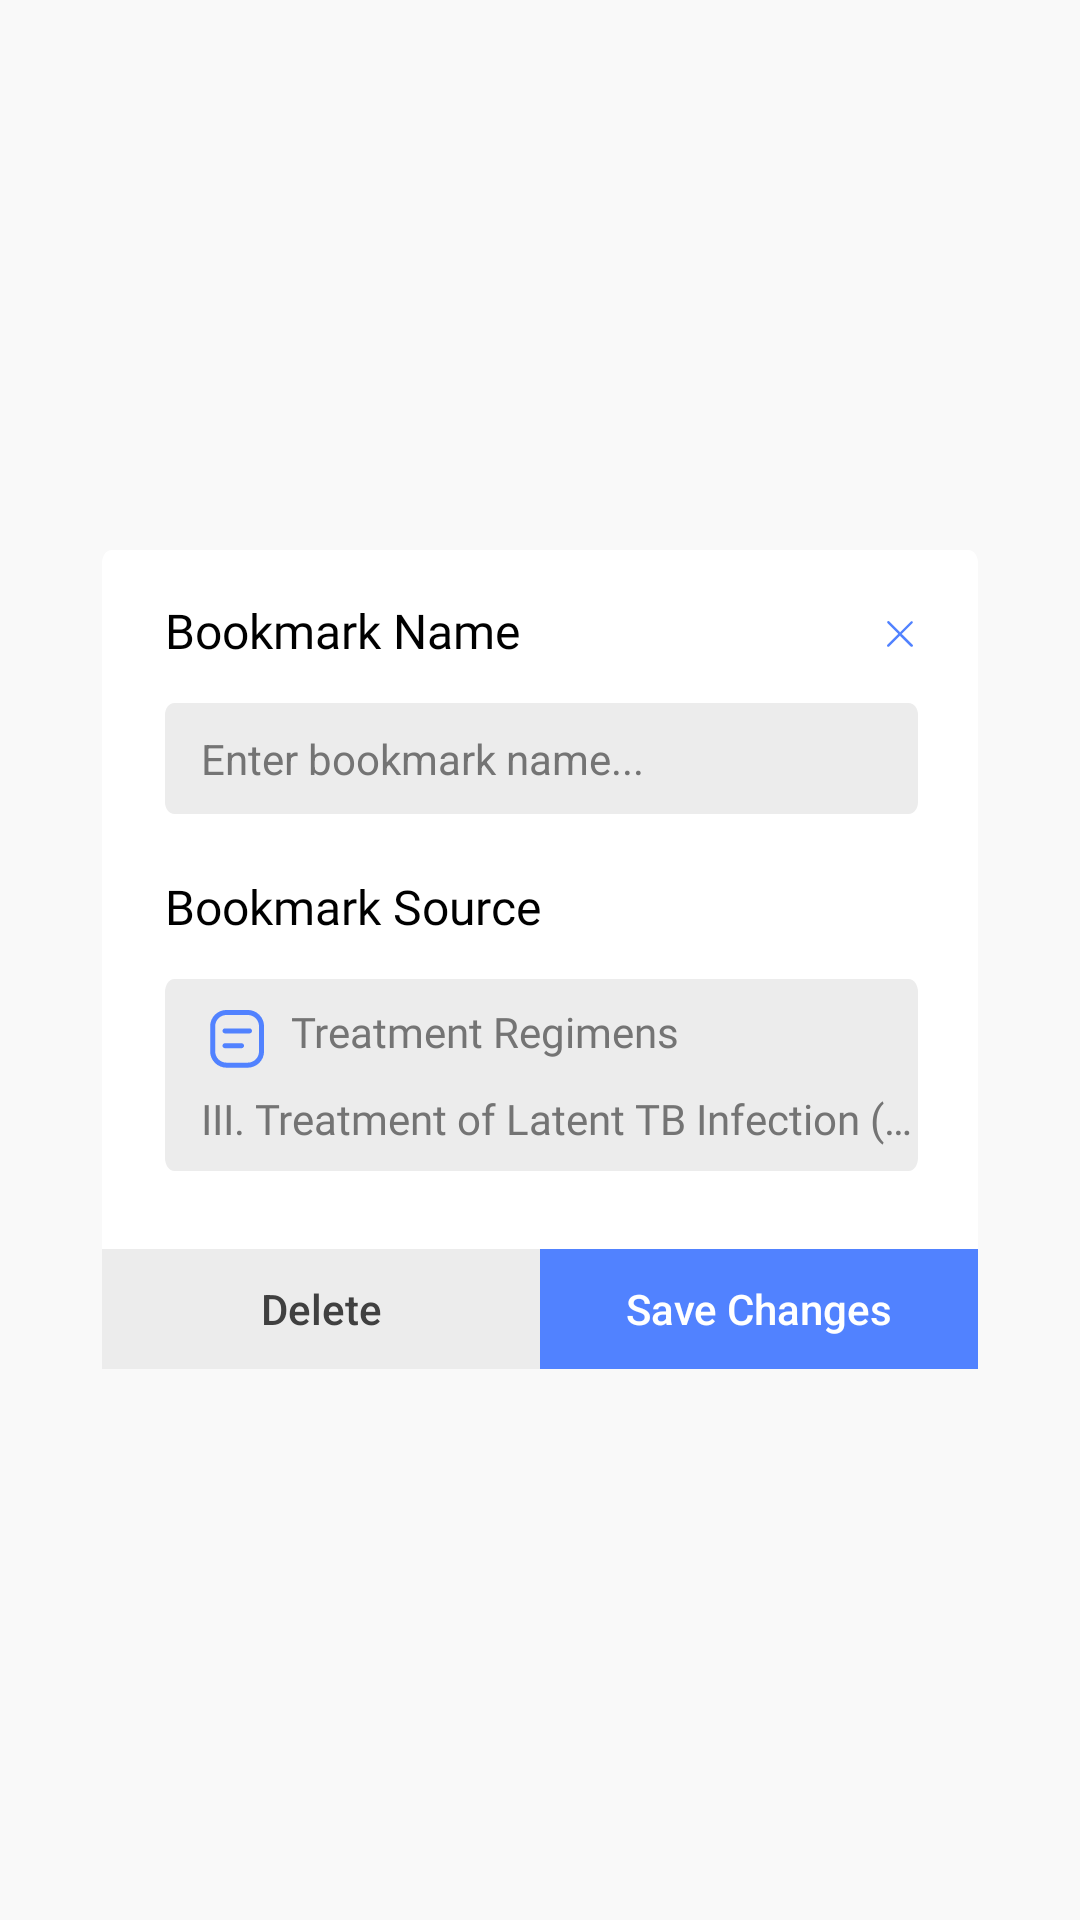

Point at icon controls on the screen. Image size 1080 × 1920, points as [x,y].
close: [900,634]
